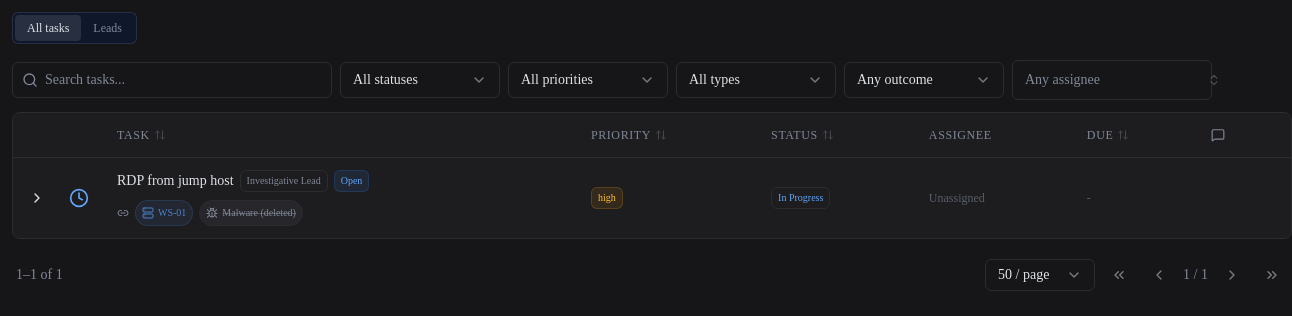
Test case: TasksTab leads integration › switches to the lead queue through the URL
Expected: the text "RDP from jump host" is shown, x1=117 y1=170 x2=234 y2=190
Click the button "Leads" at (108, 28), box x1=81 y1=15 x2=134 y2=41
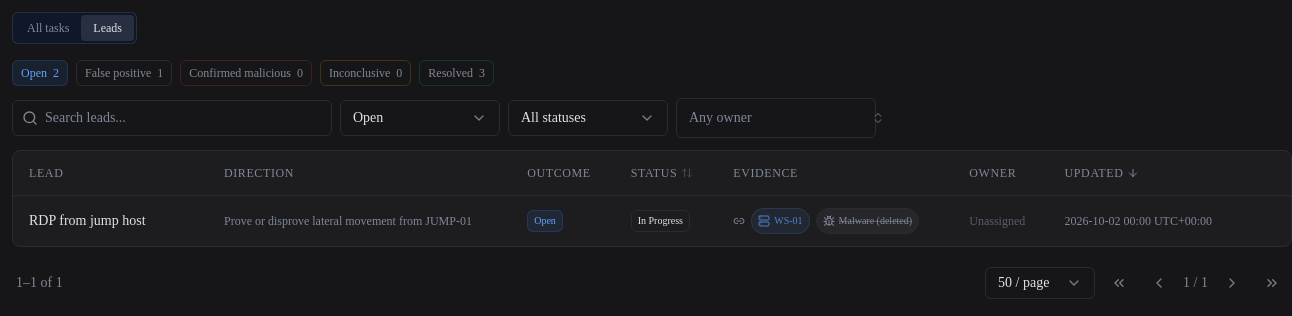
Result: the element named "Leads by outcome" is shown at x1=12 y1=60 x2=494 y2=86
